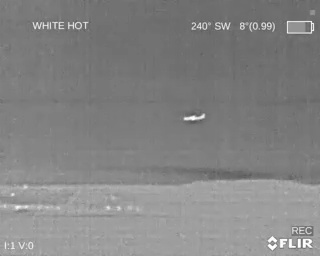AIRPLANE: (180, 110, 208, 123)
